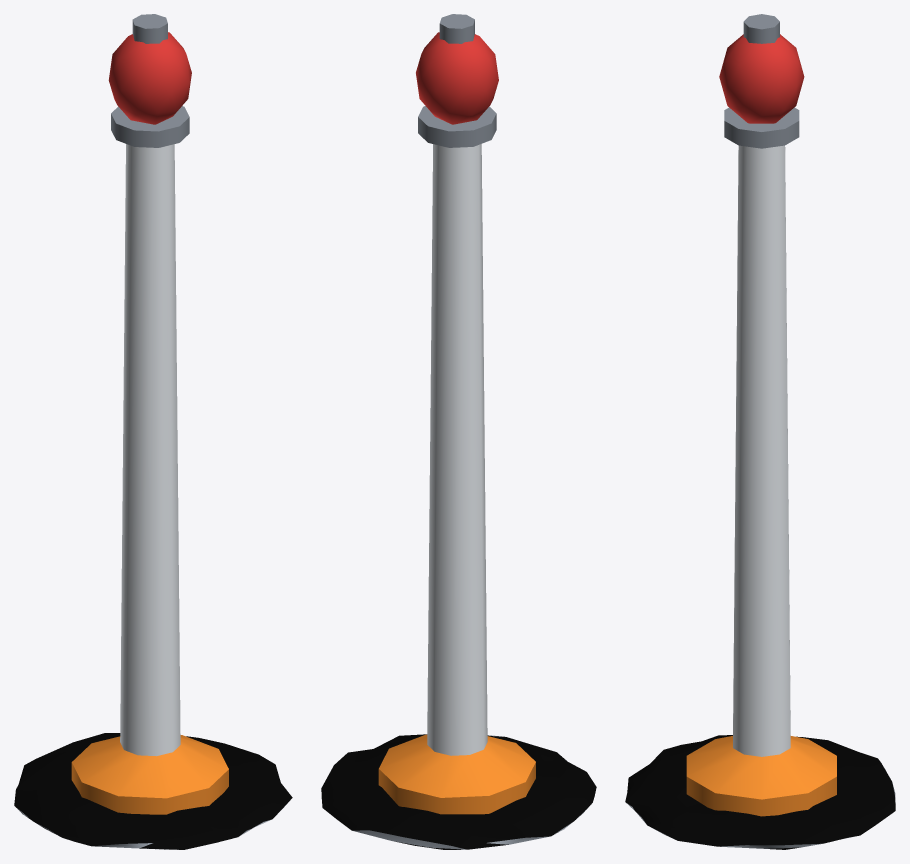
The model's file is Beacon.fbx.
3 views of the same model, side by side, from view 1: azimuth 30°, elevation 25°; view 2: azimuth 150°, elevation 25°; view 3: azimuth 270°, elevation 25° (orthographic).
Parts seen in each view (by area): view 1: Beacon; view 2: Beacon; view 3: Beacon.
Boxes of the visible parts, x1,y1,x2,y2 form: Beacon: [14, 14, 292, 849]; Beacon: [321, 14, 596, 849]; Beacon: [625, 14, 895, 849].
Bounding box in the file's own units: 0.8914 × 2.8 × 0.8893.
Materials: 2 (2 with a texture image).
